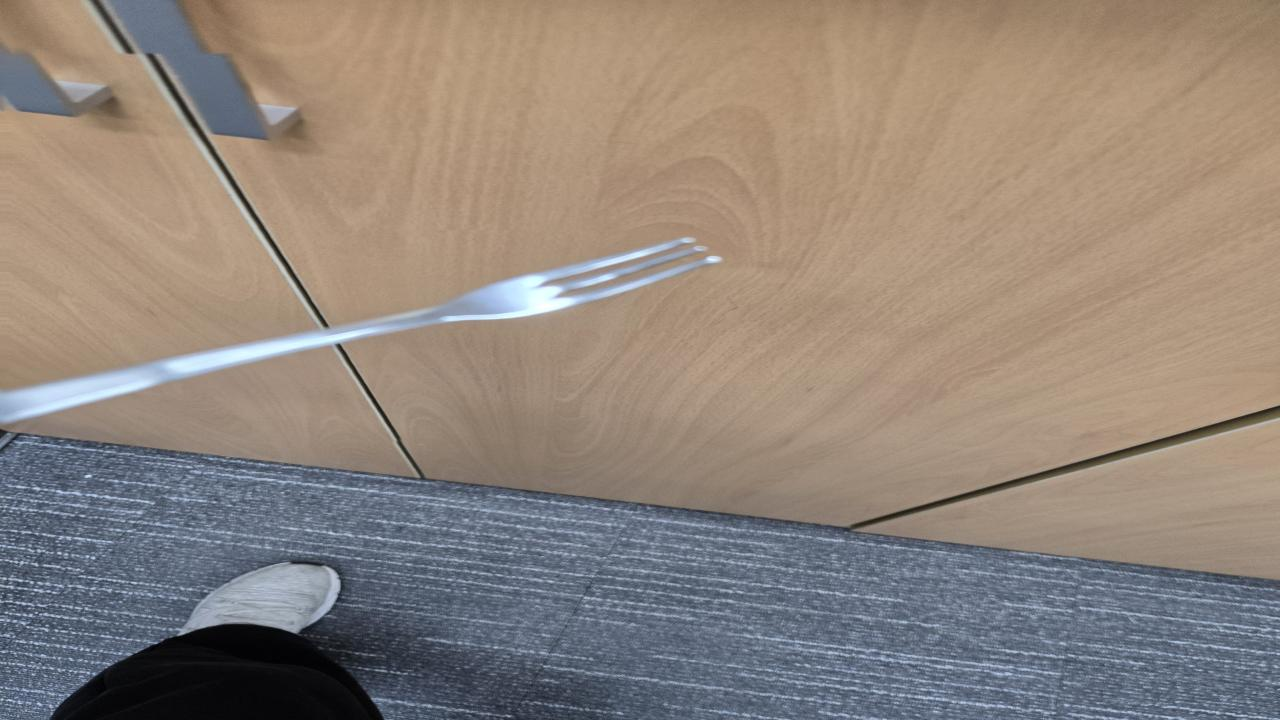fork: (0, 238, 721, 420)
